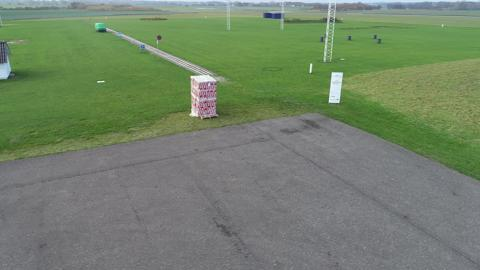RockwoolPallet: (190, 75, 218, 119)
